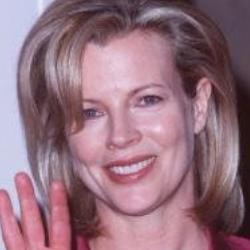face: (11, 5, 248, 228)
